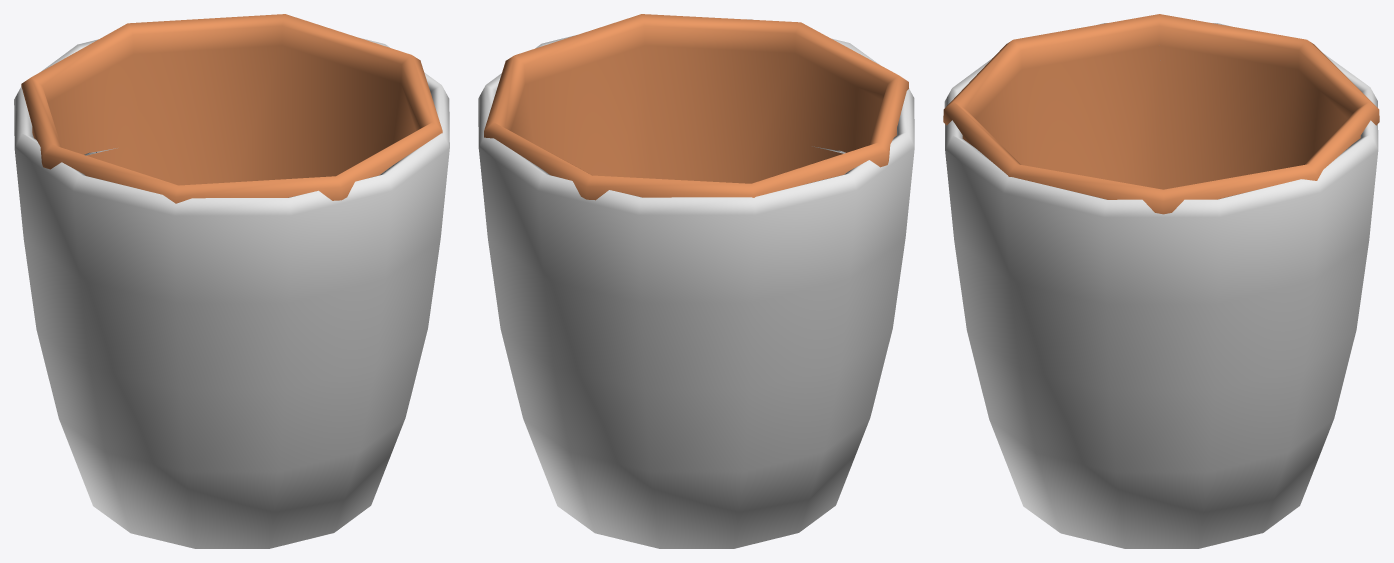
File: flower pot.glb
The picture shows the model from 3 angles, left to right: view 1: azimuth 30°, elevation 25°; view 2: azimuth 150°, elevation 25°; view 3: azimuth 270°, elevation 25°; orthographic projection.
Parts seen in each view (by area): view 1: indoor plant_02; view 2: indoor plant_02; view 3: indoor plant_02.
Boxes of the visible parts, x1,y1,x2,y2 form: indoor plant_02: (14, 14, 449, 548); indoor plant_02: (478, 14, 914, 548); indoor plant_02: (943, 14, 1379, 548).
Bounding box in the file's own units: 1.74 × 1.73 × 1.74.
